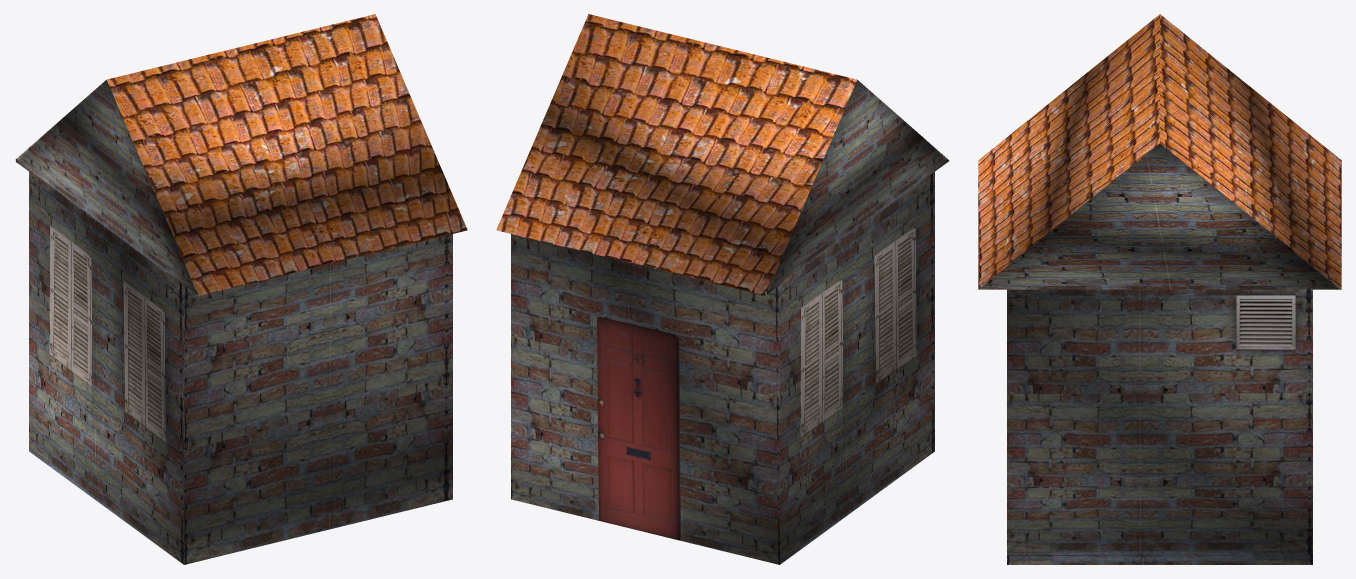
The model's file is house.fbx.
3 views of the same model, side by side, from view 1: azimuth 30°, elevation 25°; view 2: azimuth 150°, elevation 25°; view 3: azimuth 270°, elevation 25° (orthographic).
Visible parts, largest first — view 1: house_building, roof; view 2: house_building, roof; view 3: house_building, roof.
Boxes of the visible parts, box(x1,y1,x2,y2) form: house_building: box(29, 170, 452, 564); roof: box(14, 14, 467, 295); house_building: box(511, 172, 934, 564); roof: box(496, 14, 949, 295); house_building: box(1007, 288, 1312, 564); roof: box(978, 14, 1341, 289).
Size of the model in its own units: 2 by 3.04 by 2.38.
2 materials, 2 textured.
